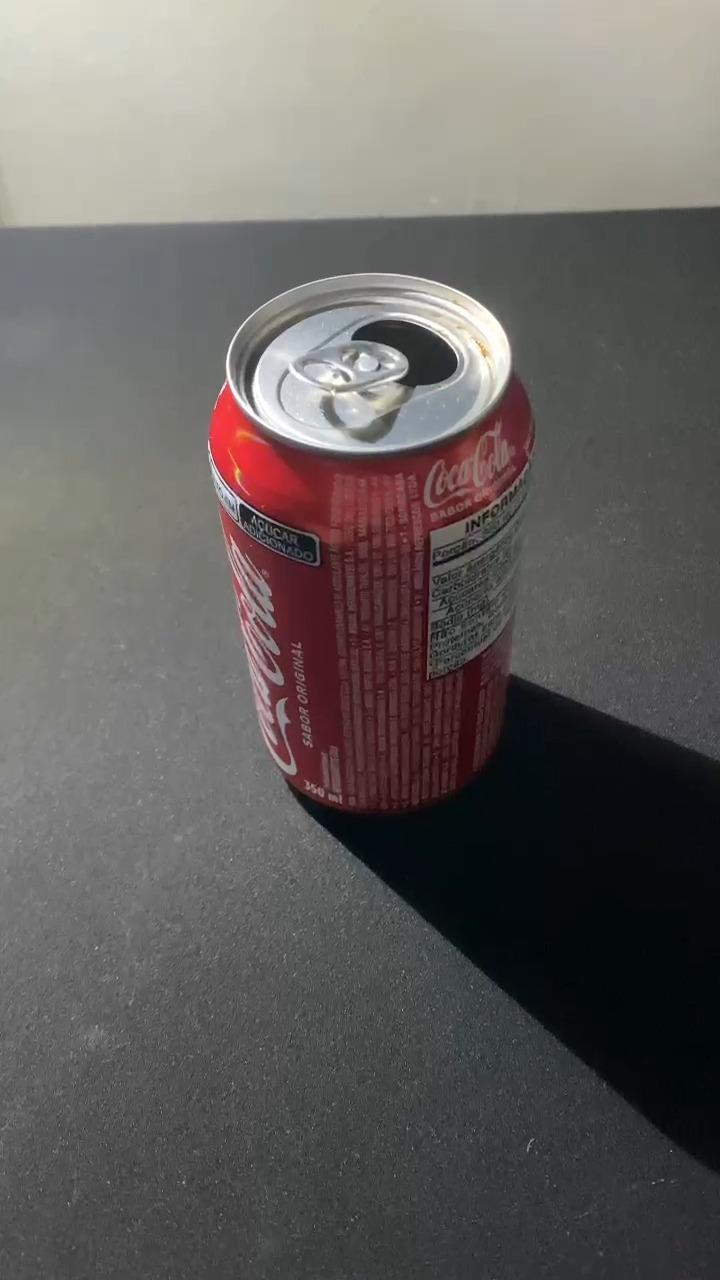coke: (210, 275, 532, 813)
